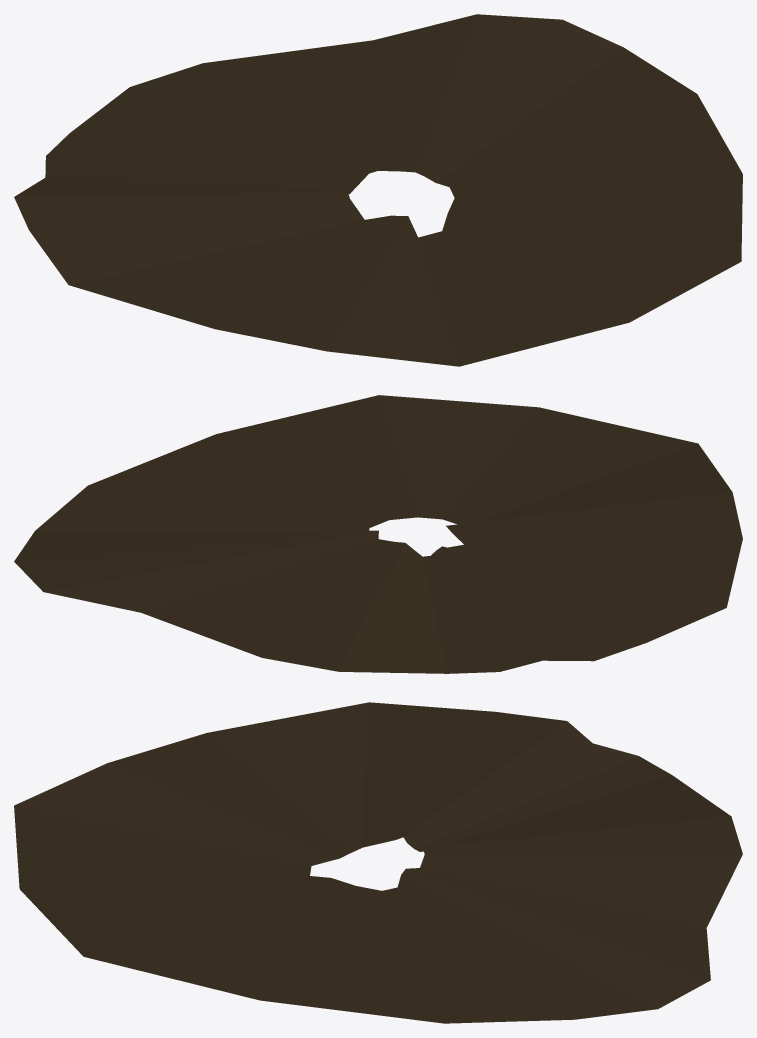
Rendered from CaveCeiling.fbx.
The picture shows the model from 3 angles, top to bottom: view 1: azimuth 30°, elevation 25°; view 2: azimuth 150°, elevation 25°; view 3: azimuth 270°, elevation 25°; orthographic projection. The views are drawn at different scales.
Visible parts, largest first — view 1: Cave_Ceiling1; view 2: Cave_Ceiling1; view 3: Cave_Ceiling1.
Boxes of the visible parts, bbox=[...] form: Cave_Ceiling1: bbox=[14, 14, 742, 366]; Cave_Ceiling1: bbox=[14, 395, 742, 673]; Cave_Ceiling1: bbox=[14, 702, 742, 1023].
Bounding box in the file's own units: 324 × 9.78 × 310.
